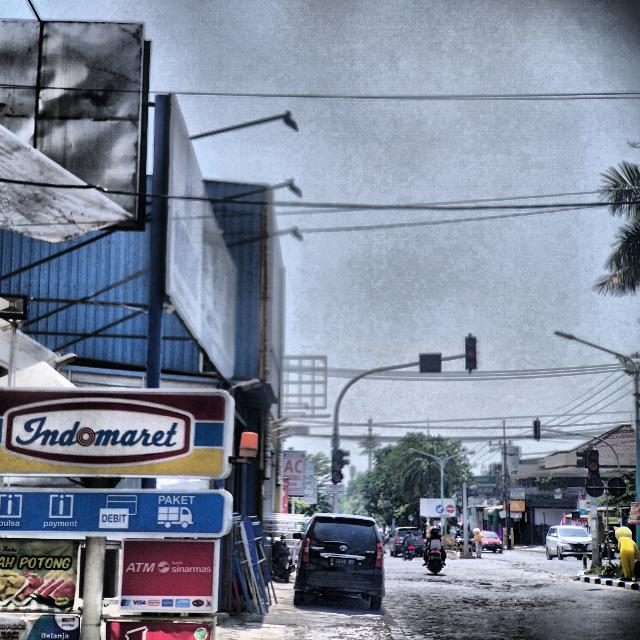yellow: (332, 450, 344, 487), (588, 451, 599, 485), (465, 339, 476, 370)
